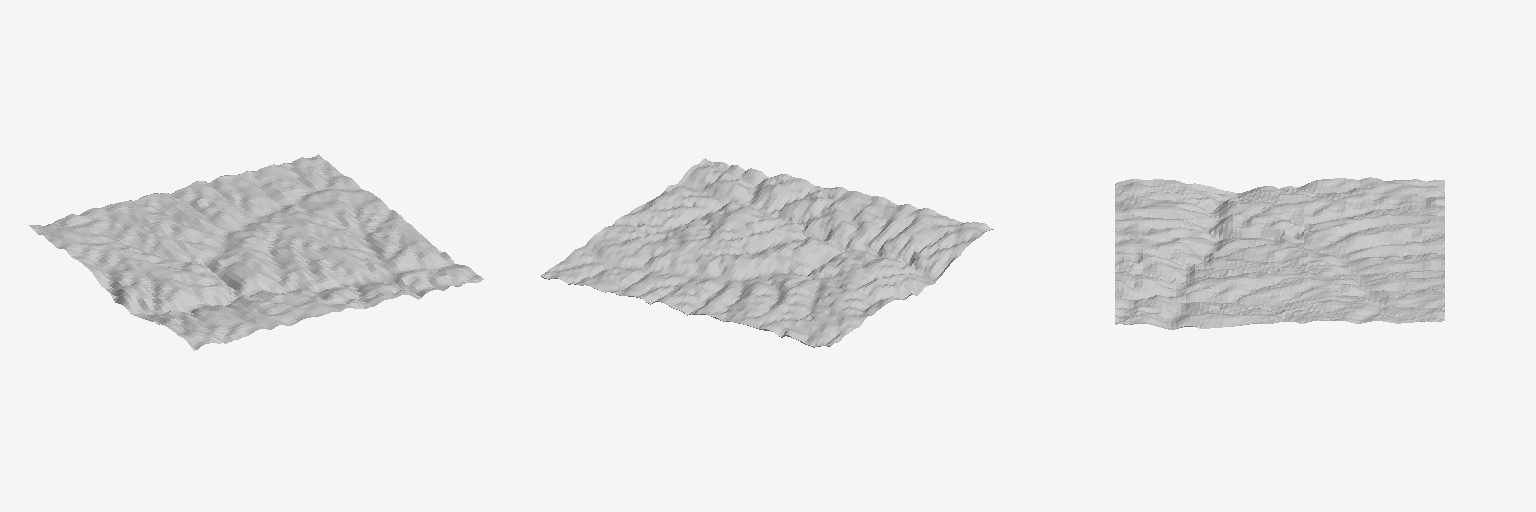
The model's file is HOCKVRML.obj.
The picture shows the model from 3 angles: view 1: azimuth 30°, elevation 25°; view 2: azimuth 150°, elevation 25°; view 3: azimuth 270°, elevation 25°; orthographic projection.
Bounding box in the file's own units: 100 × 5.61 × 98.7.